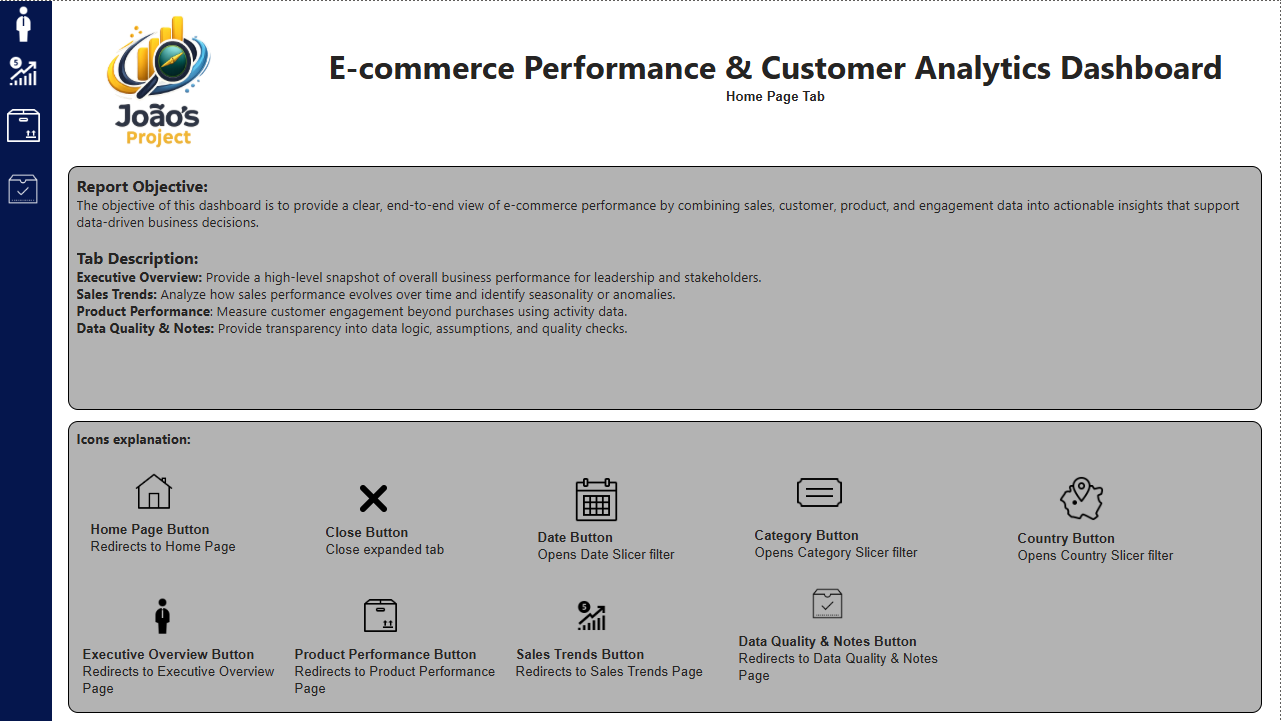

Layout of this report page (visuals, bound fields, positions):
{"tool":"powerbi","page":{"name":"Home Page","canvas":[1280,720],"ordinal":0},"visuals":[{"type":"image","title":"Logo","box":[52.6,0,210.4,165],"z":0},{"type":"shape","title":"Side Bar","box":[0,0,52.1,720.2],"z":1000},{"type":"actionButton","title":"Executive Overview Tab Button","box":[0,0,52.2,46.7],"z":2000},{"type":"textbox","title":"Report Objective Text box","box":[68.2,164.6,1194.3,244.8],"z":3000},{"type":"textbox","title":"Icon Explanation Text Box","box":[68.2,420.3,1194.3,292],"z":4000},{"type":"textbox","title":"Report Name Text Box","box":[290,37.8,972.2,76.7],"z":5000},{"type":"actionButton","title":"Sales Trends Tab Button","box":[0,46.7,52.2,46.7],"z":6000},{"type":"actionButton","title":"Product Performance Tab Button","box":[0,101.1,52.2,46.7],"z":7000},{"type":"actionButton","title":"Data Quality & Notes Tab Button","box":[0,164.6,52.3,46.7],"z":9000},{"type":"actionButton","title":"Home Page Icon Explanation","box":[131.1,467.8,52.2,46.7],"z":10000},{"type":"textbox","title":"Home Page Icon Explanation text box","box":[85.6,514.4,160,47.8],"z":11000},{"type":"actionButton","title":"Close Button Icon Explanation","box":[347.4,470.5,52.2,54.4],"z":12000},{"type":"textbox","title":"Close Button Icon Explanation text box","box":[320.8,517.2,160,47.8],"z":13000},{"type":"textbox","title":"Date Icon Explanation text box","box":[533.5,522.3,160,47.8],"z":14000},{"type":"actionButton","title":"Date Filter Button Icon Explanation","box":[570.1,472.3,53.3,54.4],"z":15000},{"type":"textbox","title":"Country Explanation text box","box":[1012.6,523.1,190,61.1],"z":16000},{"type":"actionButton","title":"Country Filter Button Icon Explanation","box":[1054.9,470.9,53.3,53.3],"z":17000},{"type":"textbox","title":"Category Explanation text box","box":[750.3,519.5,190,61.1],"z":20000},{"type":"actionButton","title":"Category Filter Button Icon Explanation","box":[792.5,465.1,53.3,53.3],"z":21000},{"type":"textbox","title":"Executive Overview Icon Explanation text box","box":[77.8,638.9,212.2,61.1],"z":22000},{"type":"actionButton","title":"Executive Overview Tab Button Icon Explanation","box":[138.9,592.2,52.2,46.7],"z":23000},{"type":"textbox","title":"Sales Trends Icon Explanation text box","box":[511.1,638.9,212.2,61.1],"z":24000},{"type":"actionButton","title":"Sales Trends Tab Button Icon Explanation","box":[567.8,591.1,52.2,46.7],"z":25000},{"type":"textbox","title":"Product Performance Icon Explanation text box","box":[290,638.9,212.2,61.1],"z":26000},{"type":"actionButton","title":"Product Performance Tab Button Icon Explanation","box":[356.7,591.1,52.2,46.7],"z":27000},{"type":"actionButton","title":"Data Quality & Notes Tab Button Icon Explanation","box":[804.2,578.9,52.2,46.7],"z":29000},{"type":"textbox","title":"Data Quality & Notes Icon Explanation text box","box":[734.2,625.6,212.2,61.1],"z":31000}]}

Visuals, with their boxes on the page's 1280x720 design canvas (x1, y1, x2, y2). These are canvas units, not pixel positions in the 1281x721 screenshot, which may show the page scaled, cropped or inside an application window:
"Logo" image: [53,0,263,165]
"Side Bar" shape: [0,0,52,720]
"Executive Overview Tab Button" actionButton: [0,0,52,47]
"Report Objective Text box" textbox: [68,165,1262,409]
"Icon Explanation Text Box" textbox: [68,420,1262,712]
"Report Name Text Box" textbox: [290,38,1262,114]
"Sales Trends Tab Button" actionButton: [0,47,52,93]
"Product Performance Tab Button" actionButton: [0,101,52,148]
"Data Quality & Notes Tab Button" actionButton: [0,165,52,211]
"Home Page Icon Explanation" actionButton: [131,468,183,514]
"Home Page Icon Explanation text box" textbox: [86,514,246,562]
"Close Button Icon Explanation" actionButton: [347,470,400,525]
"Close Button Icon Explanation text box" textbox: [321,517,481,565]
"Date Icon Explanation text box" textbox: [534,522,694,570]
"Date Filter Button Icon Explanation" actionButton: [570,472,623,527]
"Country Explanation text box" textbox: [1013,523,1203,584]
"Country Filter Button Icon Explanation" actionButton: [1055,471,1108,524]
"Category Explanation text box" textbox: [750,520,940,581]
"Category Filter Button Icon Explanation" actionButton: [792,465,846,518]
"Executive Overview Icon Explanation text box" textbox: [78,639,290,700]
"Executive Overview Tab Button Icon Explanation" actionButton: [139,592,191,639]
"Sales Trends Icon Explanation text box" textbox: [511,639,723,700]
"Sales Trends Tab Button Icon Explanation" actionButton: [568,591,620,638]
"Product Performance Icon Explanation text box" textbox: [290,639,502,700]
"Product Performance Tab Button Icon Explanation" actionButton: [357,591,409,638]
"Data Quality & Notes Tab Button Icon Explanation" actionButton: [804,579,856,626]
"Data Quality & Notes Icon Explanation text box" textbox: [734,626,946,687]
